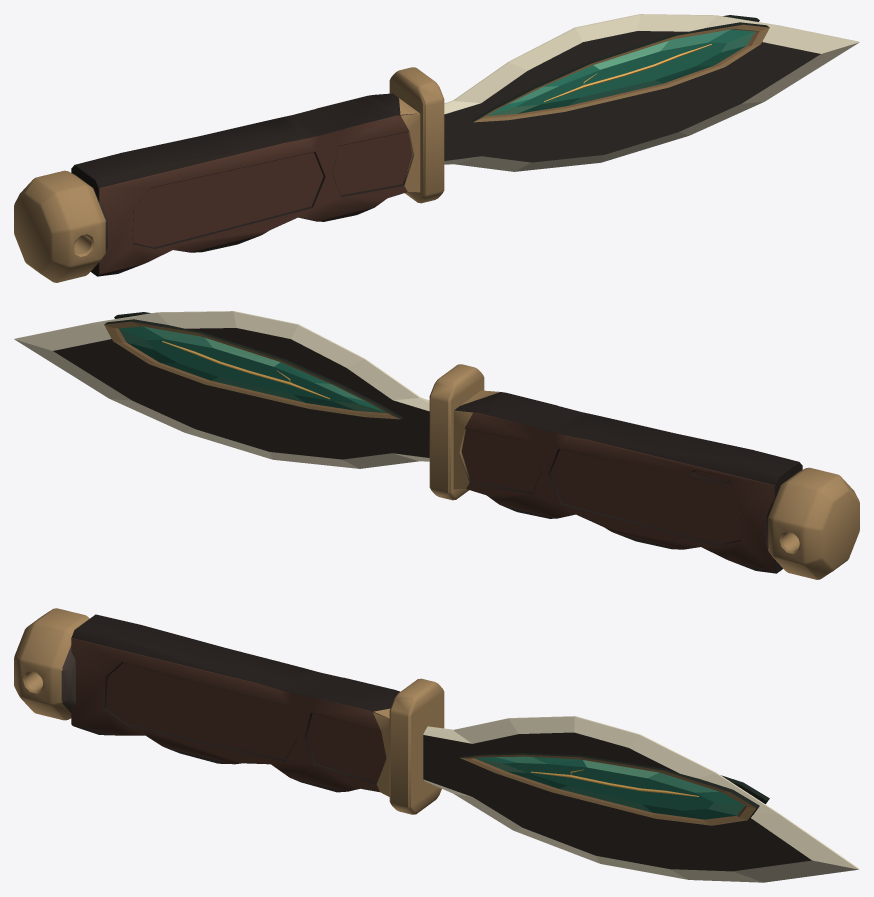
Rendered from Leafblade_Rootglass_v01.fbx.
3 views of the same model, one above another, from view 1: azimuth 30°, elevation 25°; view 2: azimuth 150°, elevation 25°; view 3: azimuth 330°, elevation 25° (orthographic).
Parts seen in each view (by area): view 1: Knife_Hilt, Rootglass_BroadLeafBlade, Rootglass_SpineRight_FacetedMineral, Rootglass_SpineRight_BronzeSeat; view 2: Knife_Hilt, Rootglass_BroadLeafBlade, Rootglass_SpineLeft_FacetedMineral, Rootglass_SpineLeft_BronzeSeat; view 3: Knife_Hilt, Rootglass_BroadLeafBlade, Rootglass_SpineRight_FacetedMineral, Rootglass_SpineRight_BronzeSeat.
Boxes of the visible parts, x1,y1,x2,y2 form: Knife_Hilt: (14,67,444,282); Rootglass_BroadLeafBlade: (444,14,859,171); Rootglass_SpineRight_FacetedMineral: (486,29,755,116); Rootglass_SpineRight_BronzeSeat: (471,22,769,122); Knife_Hilt: (429,364,859,579); Rootglass_BroadLeafBlade: (14,311,429,468); Rootglass_SpineLeft_FacetedMineral: (118,326,387,413); Rootglass_SpineLeft_BronzeSeat: (104,319,402,419); Knife_Hilt: (14,608,444,814); Rootglass_BroadLeafBlade: (423,716,859,882); Rootglass_SpineRight_FacetedMineral: (475,756,744,819); Rootglass_SpineRight_BronzeSeat: (460,753,759,825).
Bounding box in the file's own units: 172 × 28 × 18.11.
